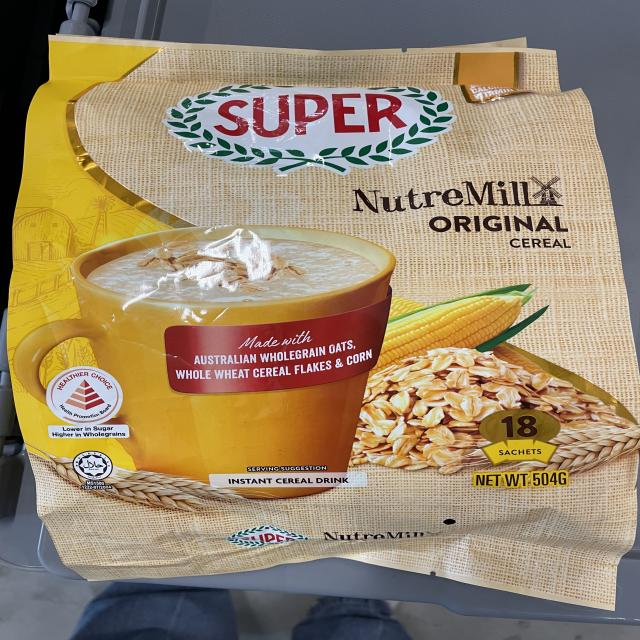object_name: (17, 52, 624, 598)
